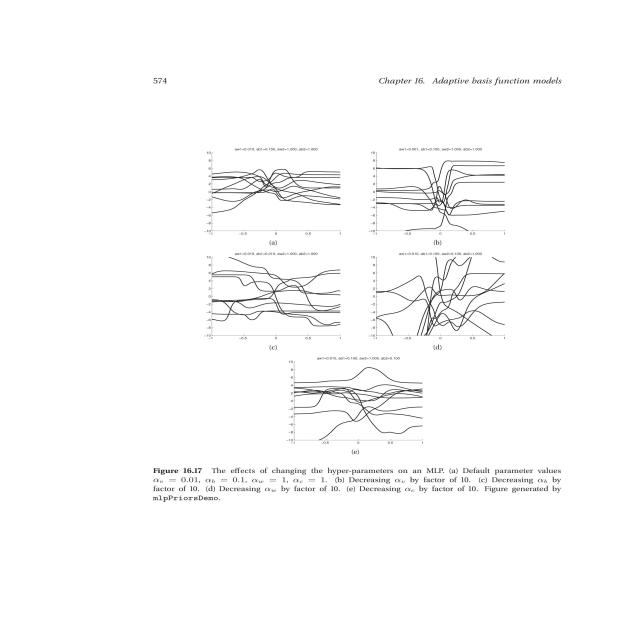diagram: (128, 140, 593, 518)
